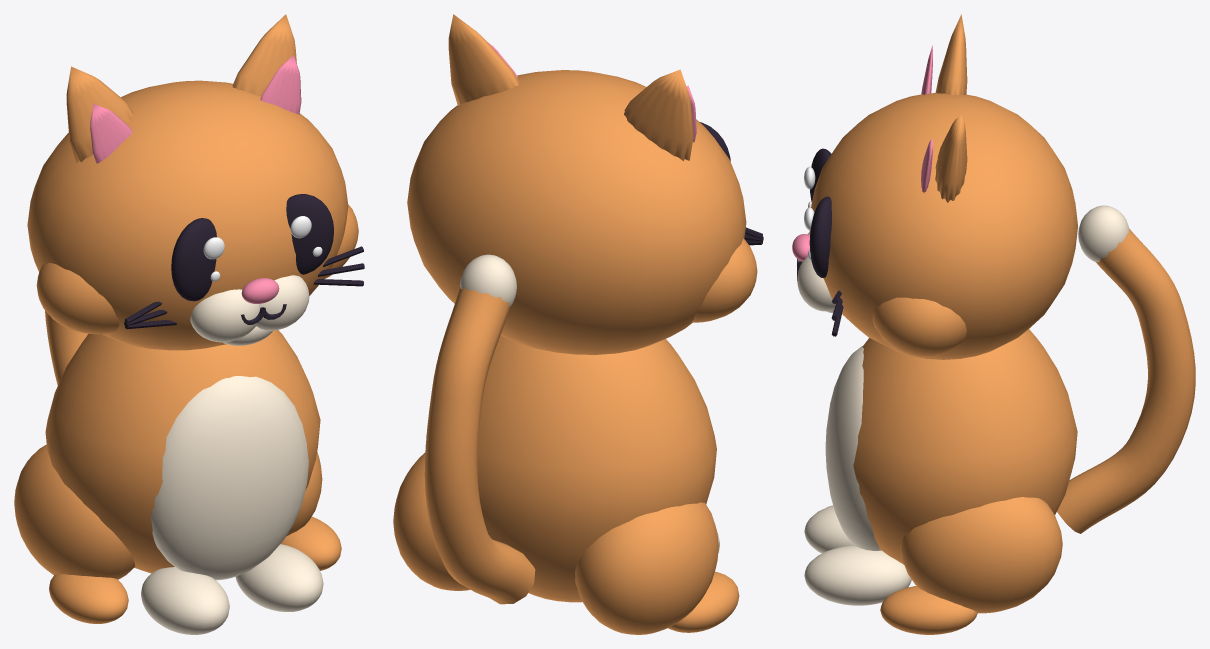
Rendered from cat.glb.
3 views of the same model, side by side, from view 1: azimuth 30°, elevation 25°; view 2: azimuth 150°, elevation 25°; view 3: azimuth 270°, elevation 25° (orthographic). The views are drawn at different scales.
Parts seen in each view (by area): view 1: Body.001, Light.001, Dark, Pink, White; view 2: Body.001, Light.001, Dark; view 3: Body.001, Light.001, Dark, Pink.
Boxes of the visible parts, box(x1,y1,x2,y2) form: Body.001: box(14, 14, 358, 623); Light.001: box(141, 275, 323, 634); Dark: box(124, 194, 364, 329); Pink: box(90, 55, 301, 303); White: box(203, 216, 322, 281); Body.001: box(393, 14, 757, 634); Light.001: box(460, 254, 719, 552); Dark: box(700, 122, 763, 245); Body.001: box(809, 14, 1195, 634); Light.001: box(797, 205, 1129, 605); Dark: box(797, 148, 843, 336); Pink: box(792, 45, 932, 261).
Size of the model in its own units: 0.726 by 1.21 by 0.8549.
